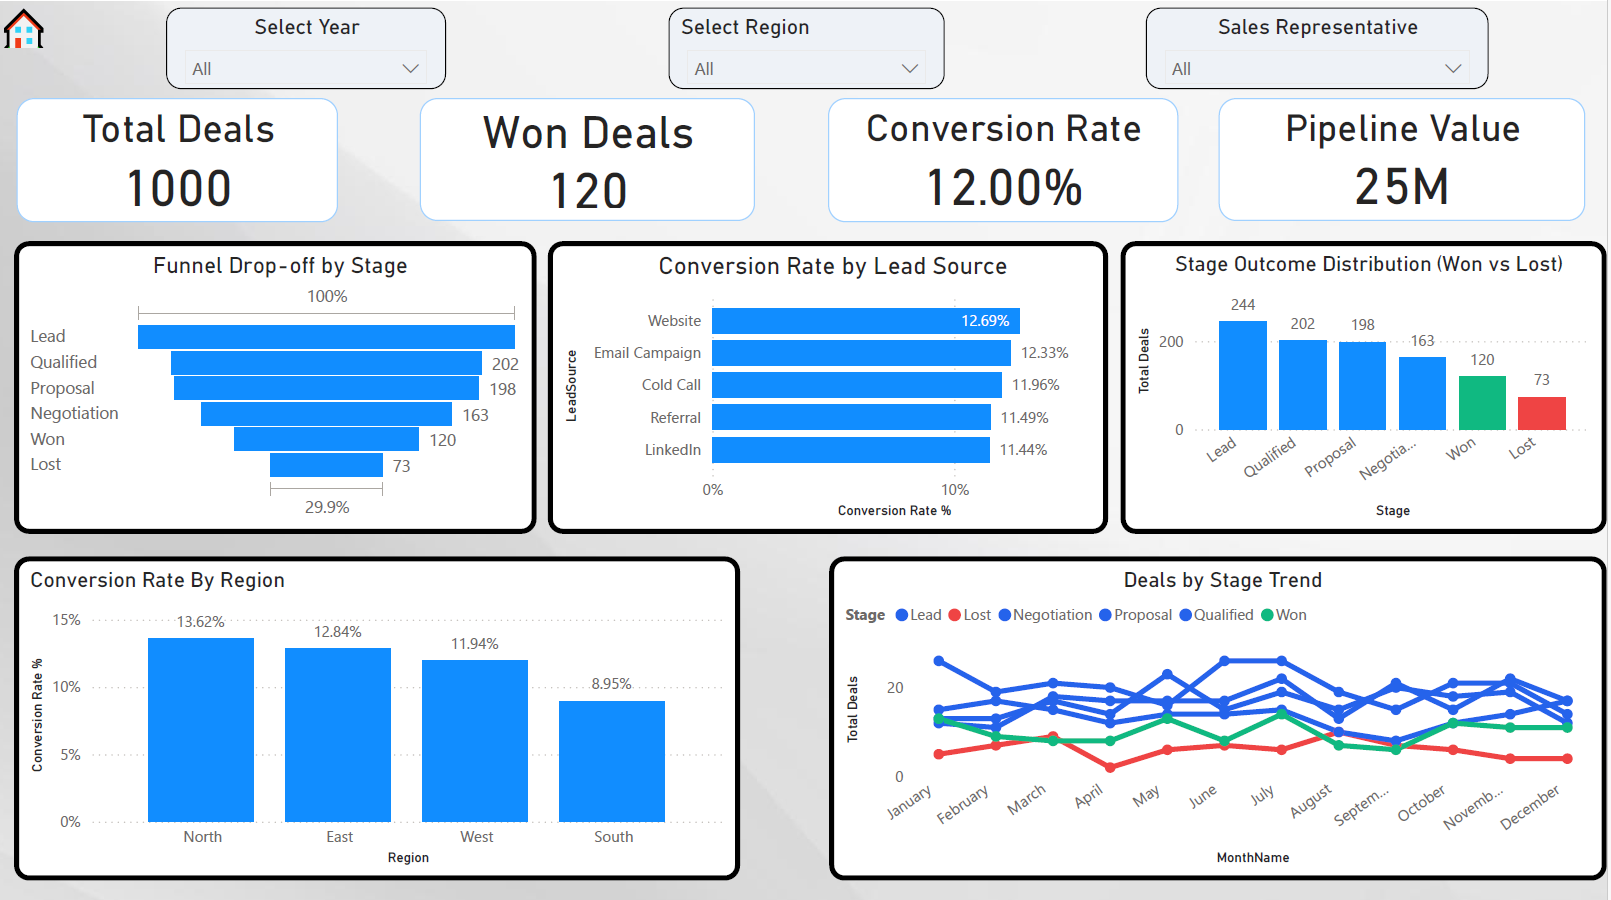

The page's visual inventory and layout, read from the dashboard file:
{"tool":"powerbi","page":{"name":"Funnel & Conversion Analysis","canvas":[1280,720],"ordinal":4},"visuals":[{"type":"funnel","title":"Funnel Drop-off by Stage","fields":{"Category":["Fact_Deals.Stage"],"Y":["Fact_Deals.Total Deals"]},"box":[12.1,190.6,416.2,232.8],"z":0},{"type":"clusteredBarChart","title":"Conversion Rate by Lead Source","fields":{"Category":["Dim_LeadSource.LeadSource"],"Y":["Fact_Deals.Conversion Rate %"]},"box":[436.7,190.6,446.4,232.8],"z":1000},{"type":"card","title":"Total Deals","fields":{"Values":["Fact_Deals.Total Deals"]},"box":[14.5,77.2,255.8,98.9],"z":2000},{"type":"card","title":"Won Deals","fields":{"Values":["Fact_Deals.Won Deals"]},"box":[335.4,77.2,266.6,97.7],"z":3000},{"type":"card","title":"Conversion Rate","fields":{"Values":["Fact_Deals.Conversion Rate %"]},"box":[659.9,77.2,278.7,98.9],"z":4000},{"type":"card","title":"Pipeline Value","fields":{"Values":["Measures (2).Pipeline Value"]},"box":[971.2,77.2,292,97.7],"z":5000},{"type":"clusteredColumnChart","title":"Conversion Rate By Region ","fields":{"Category":["Dim_Customer.Region"],"Y":["Fact_Deals.Conversion Rate %"]},"box":[12.1,441.6,577.9,258.2],"z":6000},{"type":"lineChart","title":"Deals by Stage Trend","fields":{"Category":["Dim_Date.MonthName"],"Y":["Fact_Deals.Total Deals"],"Series":["Fact_Deals.Stage"]},"box":[661.1,441.6,618.9,258.2],"z":7000},{"type":"clusteredColumnChart","title":"Stage Outcome Distribution (Won vs Lost)","fields":{"Category":["Fact_Deals.Stage"],"Y":["Fact_Deals.Total Deals"]},"box":[892.8,190.6,387.3,232.8],"z":8000},{"type":"slicer","title":"Select Year ","fields":{"Values":["Dim_Date.Year"]},"box":[133.3,4.9,222.6,64.8],"z":9000},{"type":"slicer","title":"Select Region","fields":{"Values":["Dim_Customer.Region"]},"box":[533.2,4.9,220.1,64.8],"z":10000},{"type":"slicer","title":"Sales Representative","fields":{"Values":["Dim_SalesRep.SalesRepName"]},"box":[913.5,4.9,272.7,64.8],"z":11000},{"type":"pageNavigator","title":"🏠","box":[0,0,51.9,37.4],"z":12000}]}

Visuals, with their boxes in screenshot pixels (x1, y1, x2, y2), scaled from the page's 1280x720 canvas onto the 1611x900 screenshot:
"Funnel Drop-off by Stage" funnel: detection(15, 238, 539, 529)
"Conversion Rate by Lead Source" clusteredBarChart: detection(550, 238, 1111, 529)
"Total Deals" card: detection(18, 96, 340, 220)
"Won Deals" card: detection(422, 96, 758, 219)
"Conversion Rate" card: detection(831, 96, 1181, 220)
"Pipeline Value" card: detection(1222, 96, 1590, 219)
"Conversion Rate By Region " clusteredColumnChart: detection(15, 552, 743, 875)
"Deals by Stage Trend" lineChart: detection(832, 552, 1610, 875)
"Stage Outcome Distribution (Won vs Lost)" clusteredColumnChart: detection(1124, 238, 1610, 529)
"Select Year " slicer: detection(168, 6, 448, 87)
"Select Region" slicer: detection(671, 6, 948, 87)
"Sales Representative" slicer: detection(1150, 6, 1493, 87)
"🏠" pageNavigator: detection(0, 0, 65, 47)
